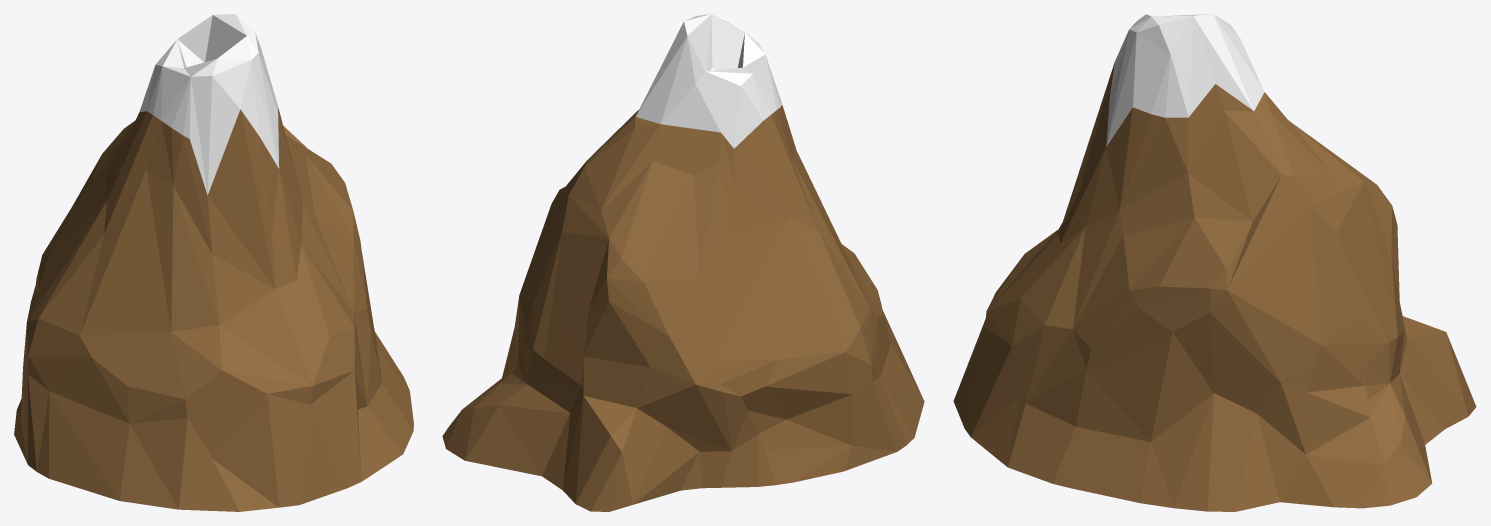
The model's file is huoshan.fbx.
The picture shows the model from 3 angles, left to right: view 1: azimuth 30°, elevation 25°; view 2: azimuth 150°, elevation 25°; view 3: azimuth 270°, elevation 25°; orthographic projection. The views are drawn at different scales.
Visible parts, largest first — view 1: pasted__huoshan; view 2: pasted__huoshan; view 3: pasted__huoshan.
Boxes of the visible parts, <box> form: pasted__huoshan: <box>14,14,413,511</box>; pasted__huoshan: <box>442,14,924,511</box>; pasted__huoshan: <box>953,14,1476,511</box>.
Size of the model in its own units: 24.06 by 23.87 by 27.48.
